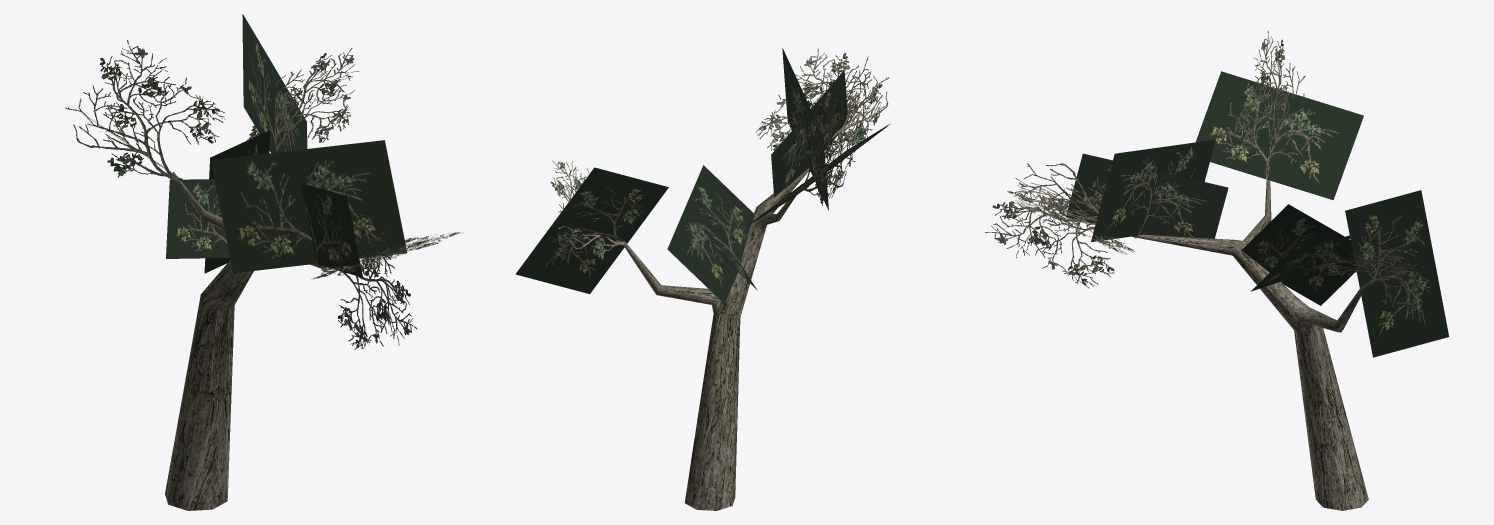
The model's file is mtns_shrb_gnarled_a1_l0.fbx.
3 views of the same model, side by side, from view 1: azimuth 30°, elevation 25°; view 2: azimuth 150°, elevation 25°; view 3: azimuth 270°, elevation 25° (orthographic). The views are drawn at different scales.
Parts seen in each view (by area): view 1: mesh_node; view 2: mesh_node; view 3: mesh_node.
Boxes of the visible parts, x1,y1,x2,y2 form: mesh_node: [65, 14, 463, 510]; mesh_node: [515, 48, 890, 510]; mesh_node: [985, 31, 1449, 510].
Size of the model in its own units: 3.55 by 4.87 by 5.11.
